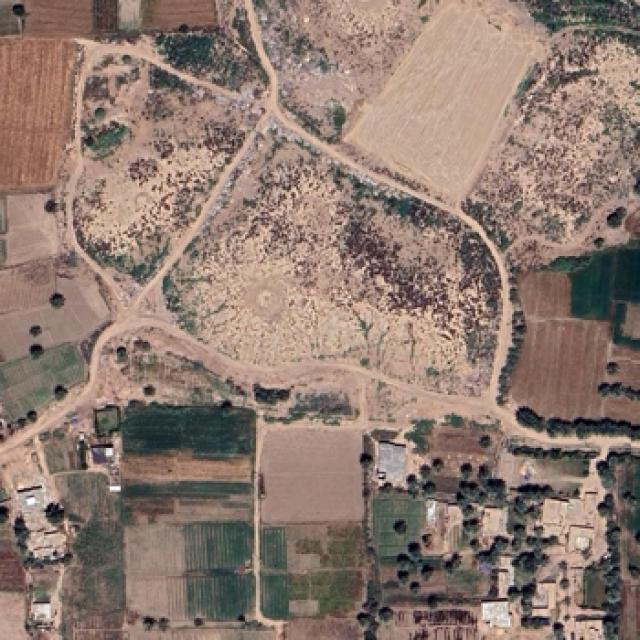artifacts: (494, 471, 612, 634), (370, 482, 480, 609), (8, 476, 72, 565), (76, 413, 122, 490)
ruins: (524, 330, 594, 410), (124, 524, 196, 592), (3, 113, 68, 182), (237, 271, 292, 322)
vegetation: (66, 488, 128, 636), (566, 243, 638, 327), (504, 452, 594, 502), (156, 28, 230, 83), (267, 388, 359, 424), (496, 301, 526, 406)
